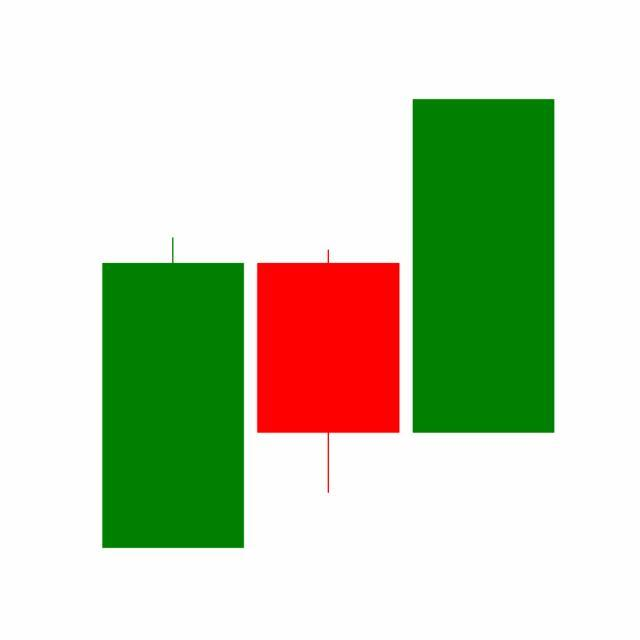Marubozu: (406, 96, 562, 437)
